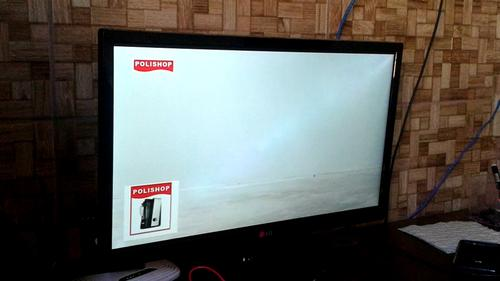Polishop #1: (122, 179, 179, 240)
